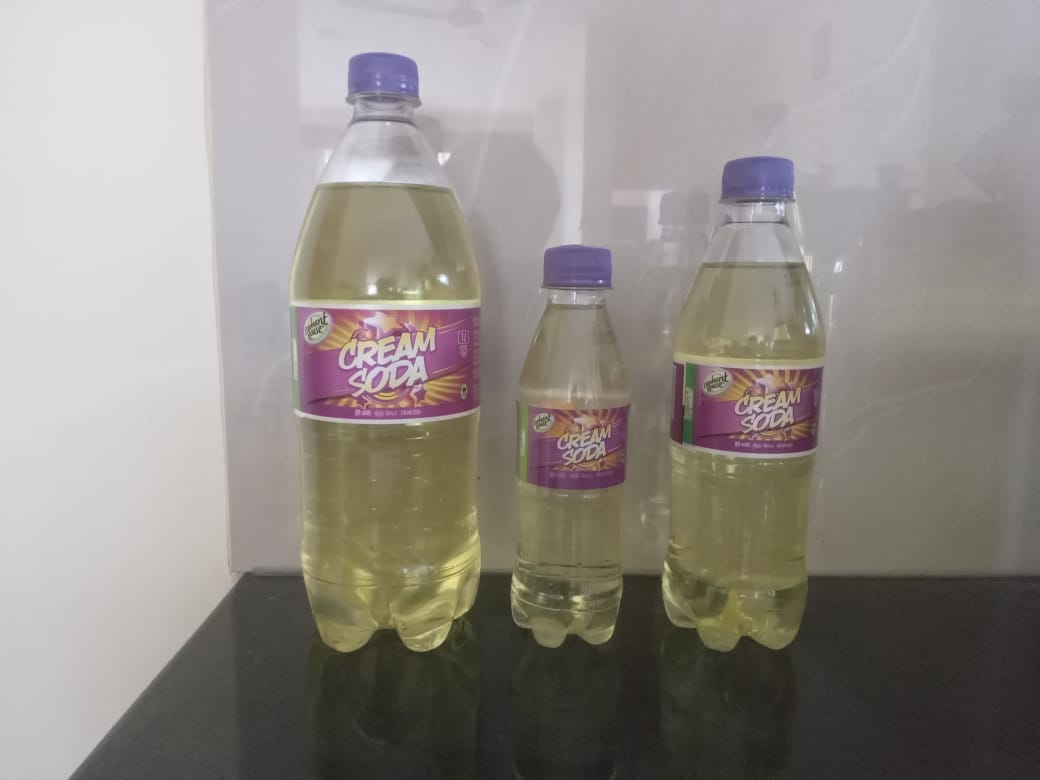M: (284, 50, 487, 668)
S: (658, 154, 823, 651)
Xs: (503, 241, 635, 654)
